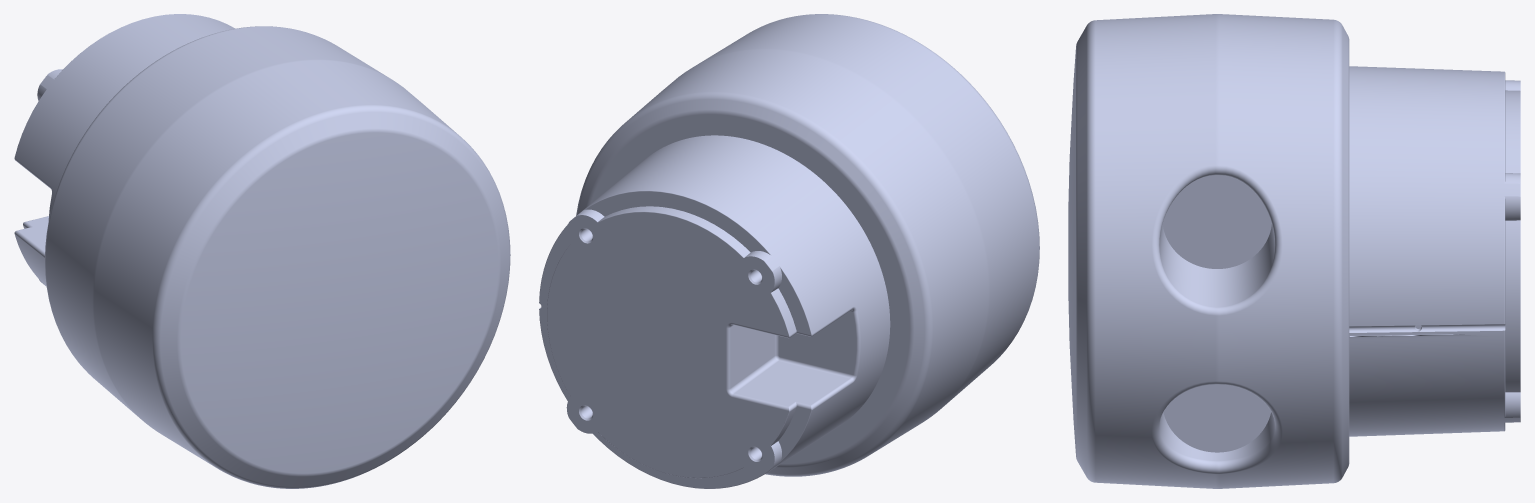
File: sweep.dae
3 views of the same model, side by side, from view 1: azimuth 30°, elevation 25°; view 2: azimuth 150°, elevation 25°; view 3: azimuth 270°, elevation 25° (orthographic). The views are drawn at different scales.
Bounding box in the file's own units: 0.065 × 0.065 × 0.0619.
